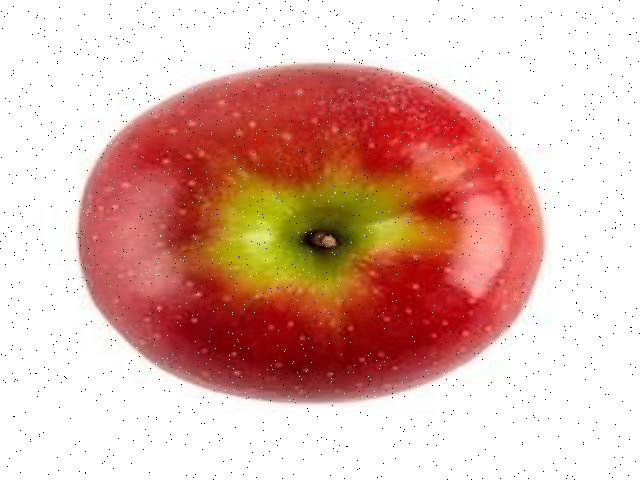apple: (72, 57, 550, 409)
